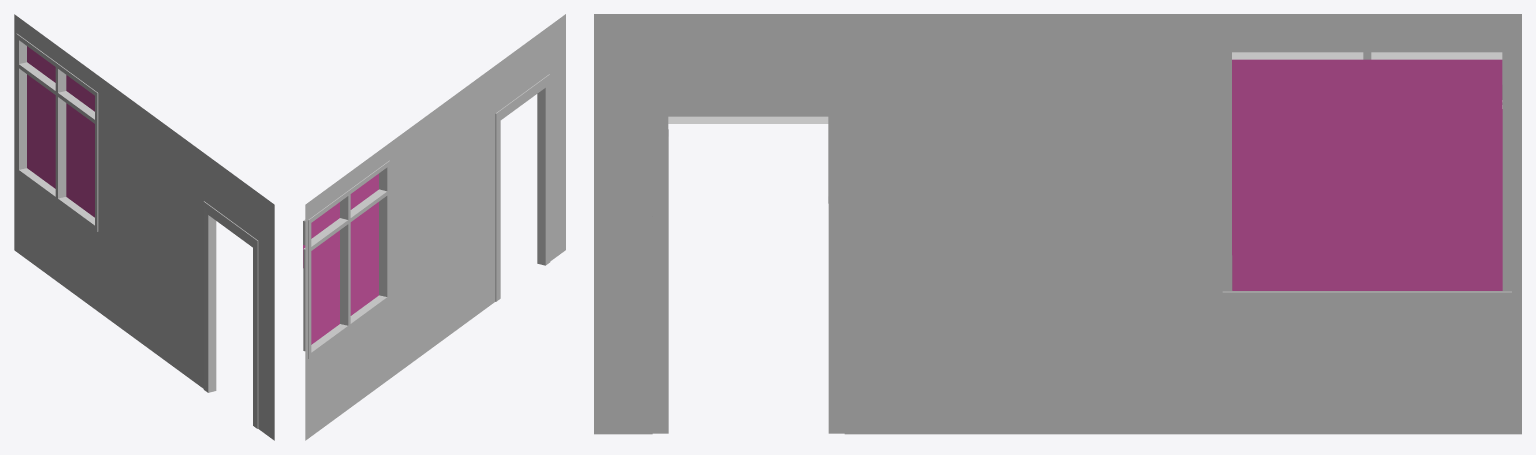
Rendered from modulaie assets army set.fbx.
The picture shows the model from 3 angles, left to right: view 1: azimuth 30°, elevation 25°; view 2: azimuth 150°, elevation 25°; view 3: azimuth 270°, elevation 25°; orthographic projection. The views are drawn at different scales.
Visible parts, largest first — view 1: Plane; view 2: Plane; view 3: Plane.
Boxes of the visible parts, left/top/right/bottom form: Plane: left=14, top=14, right=274, bottom=440; Plane: left=303, top=14, right=565, bottom=440; Plane: left=594, top=14, right=1521, bottom=434.
Size of the model in its own units: 11.03 by 300 by 600.
